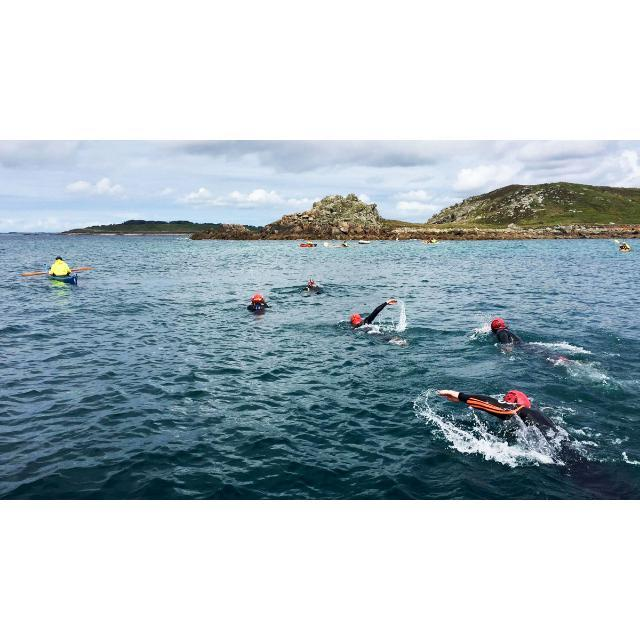human: (435, 383, 604, 480), (348, 299, 400, 332), (489, 315, 526, 351), (246, 292, 272, 312)
